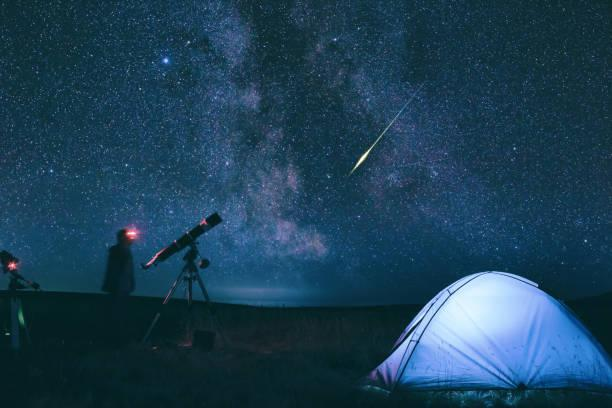meteor: (343, 158, 365, 177)
